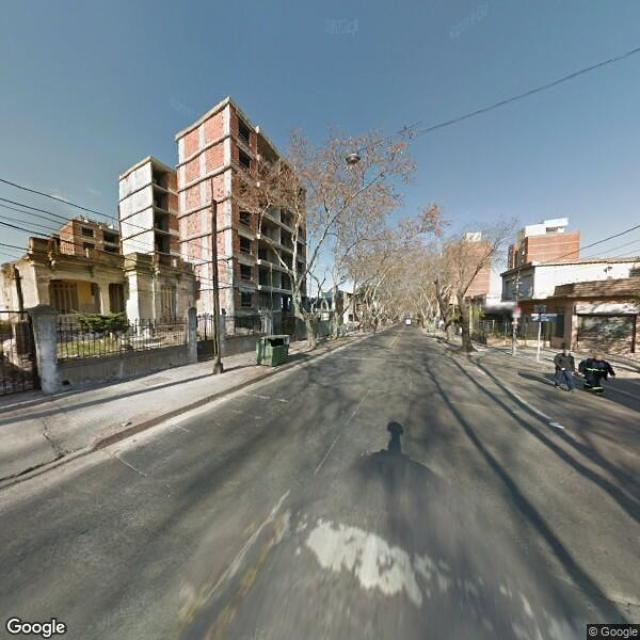garbage container: (247, 331, 302, 372)
